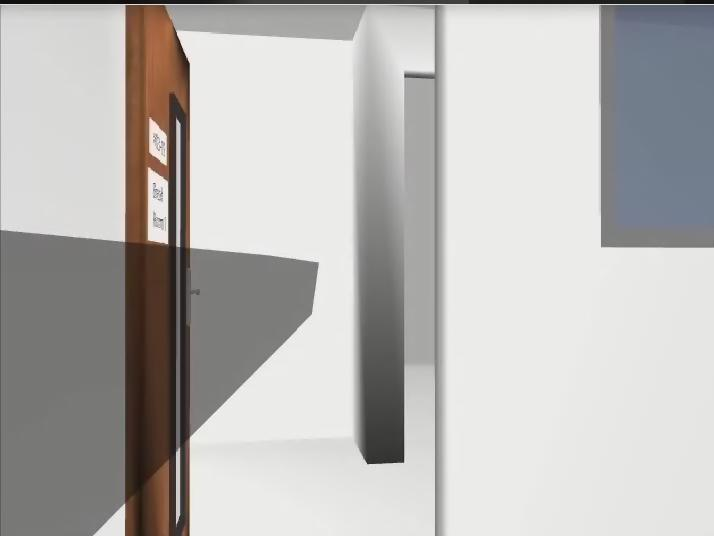door: (125, 5, 199, 536)
